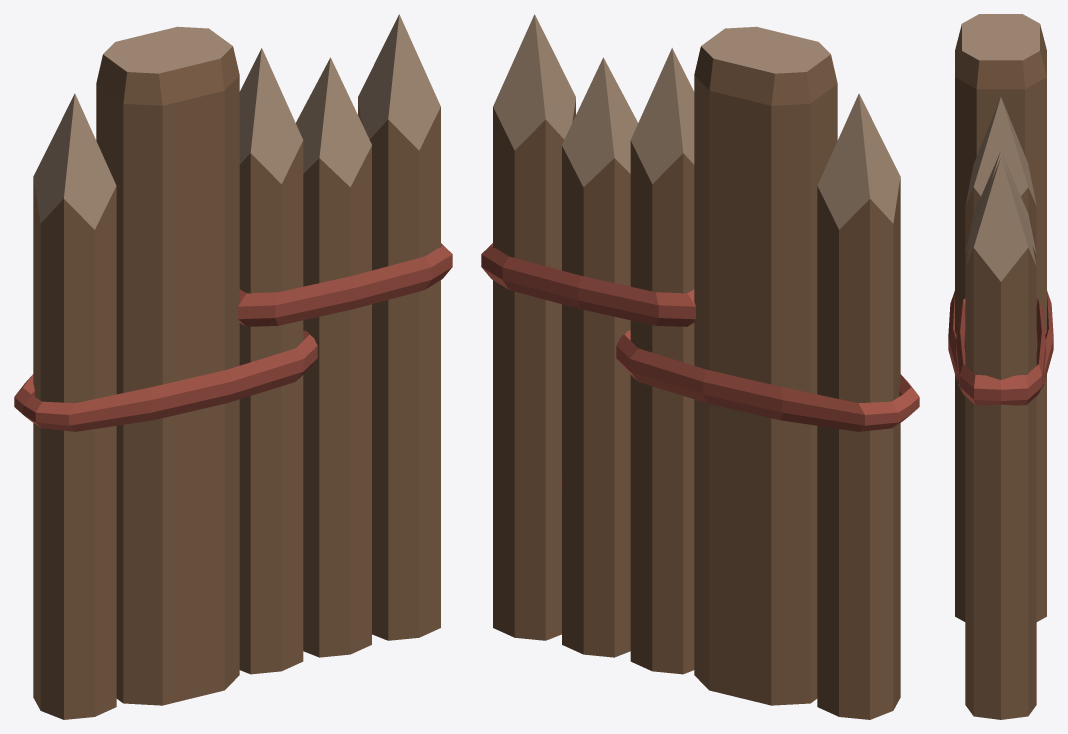
File: 3D_Model_Pillar_slope_LP_v2.fbx
The picture shows the model from 3 angles, left to right: view 1: azimuth 30°, elevation 25°; view 2: azimuth 150°, elevation 25°; view 3: azimuth 270°, elevation 25°; orthographic projection. The views are drawn at different scales.
Parts seen in each view (by area): view 1: pillar_slope; view 2: pillar_slope; view 3: pillar_slope.
Part boxes in pixels (bbox=[...]): pillar_slope: bbox=[14, 14, 452, 719]; pillar_slope: bbox=[481, 14, 919, 719]; pillar_slope: bbox=[948, 14, 1053, 719].
Size of the model in its own units: 274 by 395 by 66.67.
